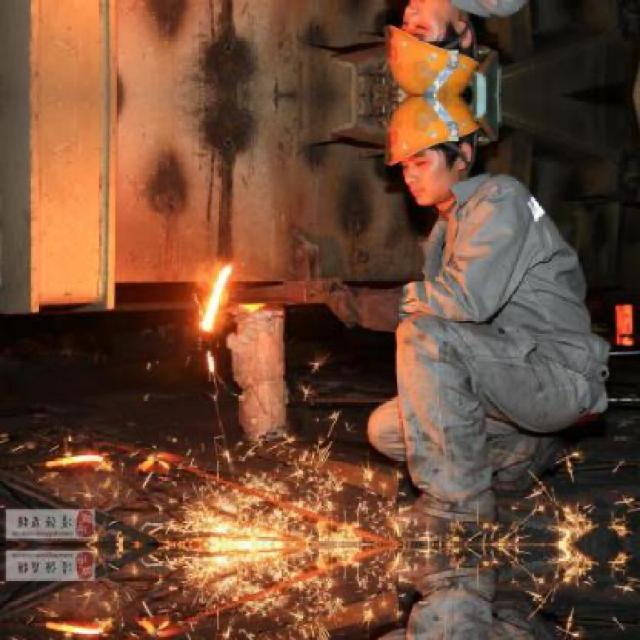2: (294, 95, 614, 543), (292, 0, 614, 94), (292, 544, 614, 638)
helmet: (382, 95, 482, 208), (382, 0, 483, 94)
